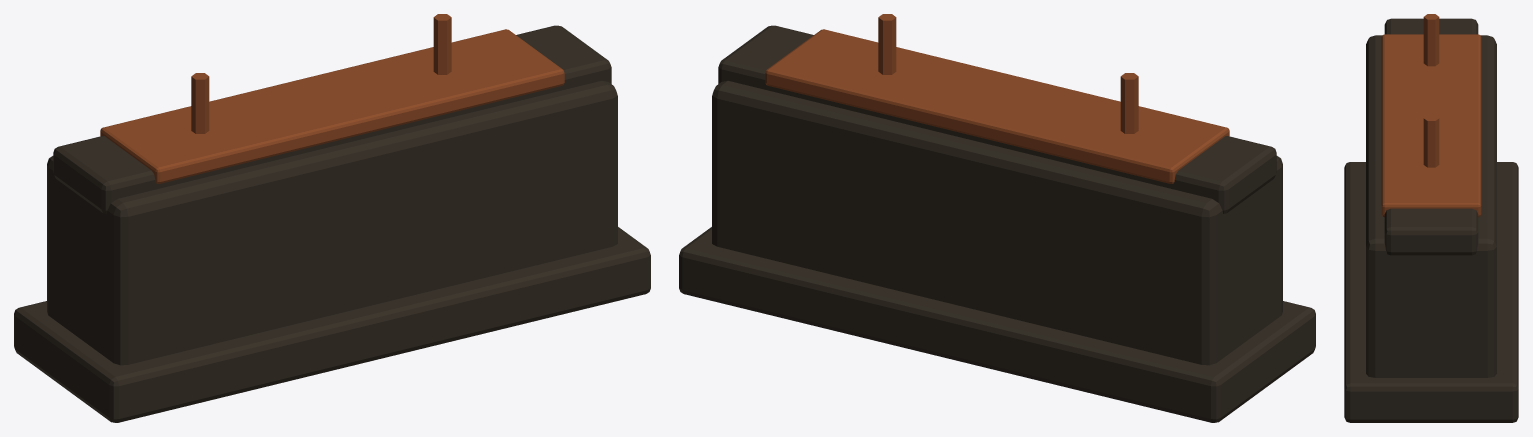
The model's file is barrier_0.glb.
3 renders of one model, left to right at view 1: azimuth 30°, elevation 25°; view 2: azimuth 150°, elevation 25°; view 3: azimuth 270°, elevation 25°, orthographic. The views are drawn at different scales.
Visible parts, largest first — view 1: barrier; view 2: barrier; view 3: barrier.
Boxes of the visible parts, x1,y1,x2,y2 form: barrier: (14,14,650,422); barrier: (679,14,1315,422); barrier: (1344,14,1518,422).
Bounding box in the file's own units: 1.72 × 0.85 × 0.56.
